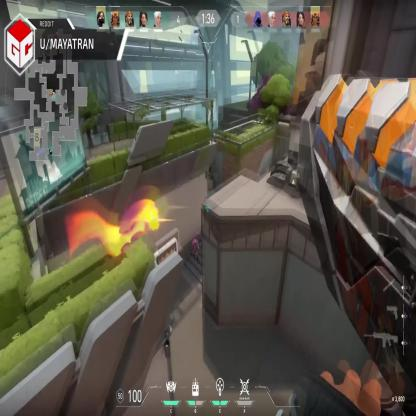enemy: (192, 237, 198, 261)
enemy_head: (194, 239, 196, 245)
